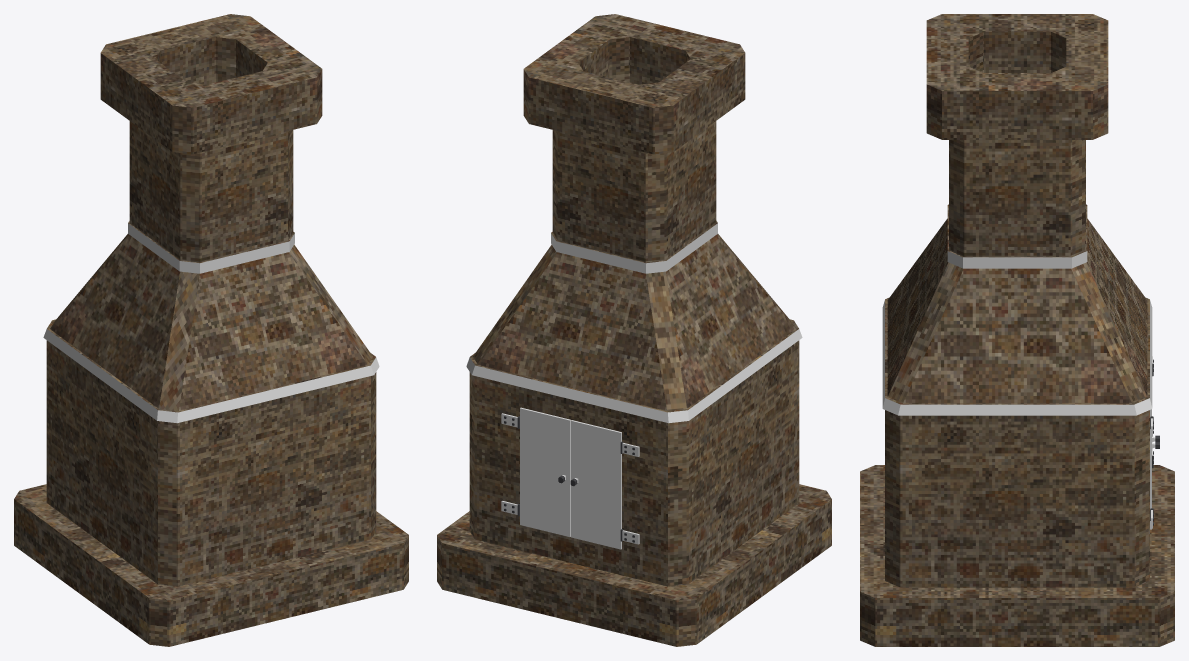
File: GD 3D Forge 1 Stone Grass n Rust.fbx
3 renders of one model, left to right at view 1: azimuth 30°, elevation 25°; view 2: azimuth 150°, elevation 25°; view 3: azimuth 270°, elevation 25°, orthographic. The views are drawn at different scales.
Visible parts, largest first — view 1: Forge Basic 3IVG 3D; view 2: Forge Basic 3IVG 3D; view 3: Forge Basic 3IVG 3D.
Boxes of the visible parts, x1,y1,x2,y2 form: Forge Basic 3IVG 3D: (14,14,408,646); Forge Basic 3IVG 3D: (437,14,831,646); Forge Basic 3IVG 3D: (860,14,1174,646).
Size of the model in its own units: 238 by 440 by 238.
